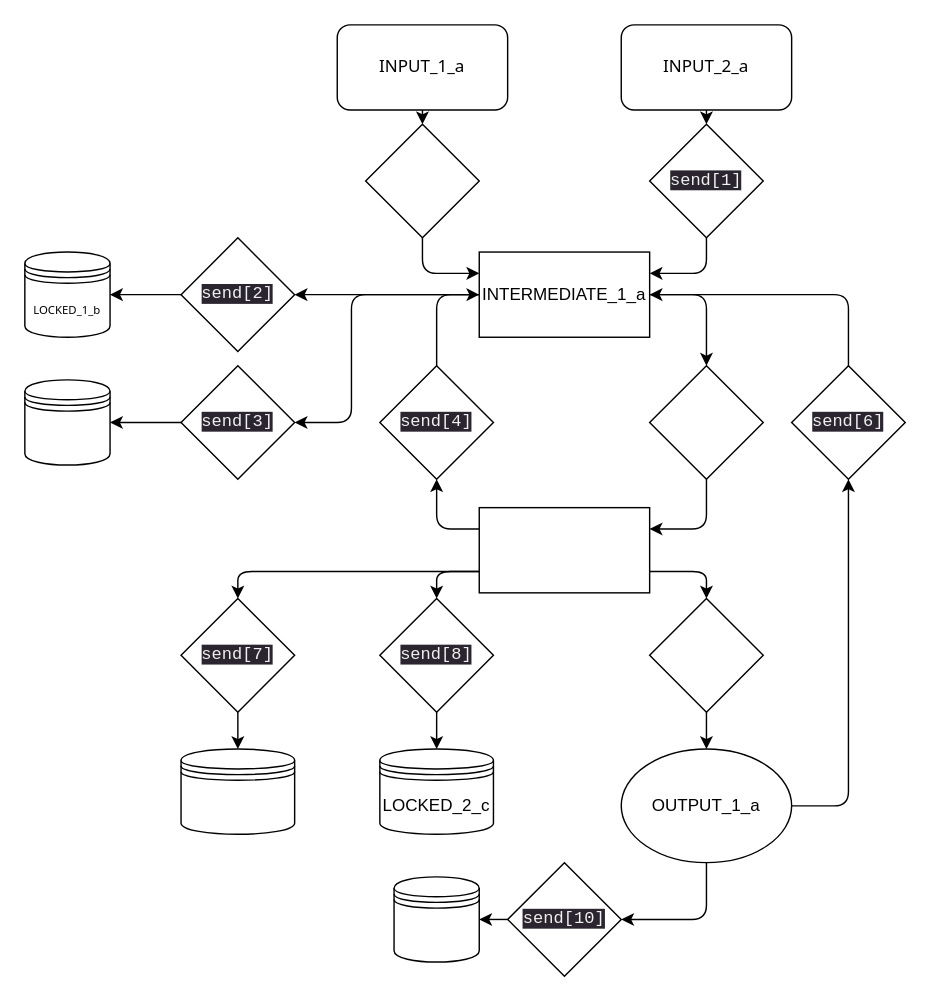
Some shapes in this 930 by 1001 pixel diagram are drawn without their labels. Here are the shapes that lost their labels. From the top down, the centre of each, then its label:
At (x=421, y=180): "send[0]".
At (x=66, y=421): "LOCKED_1_c".
At (x=705, y=421): "send[5]".
At (x=564, y=549): "INTERMEDIATE_2_a".
At (x=705, y=654): "send[9]".
At (x=237, y=791): "LOCKED_2_b".
At (x=436, y=918): "LOCKED_3_a".
